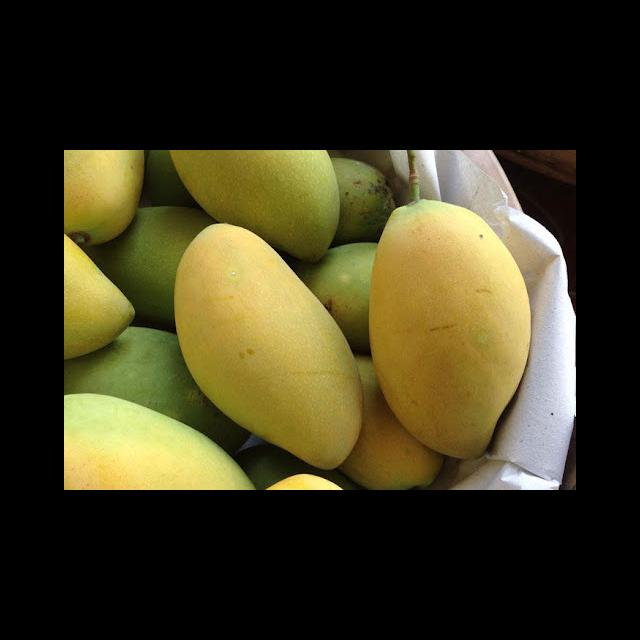xoai: (173, 223, 364, 471), (369, 201, 530, 461)
